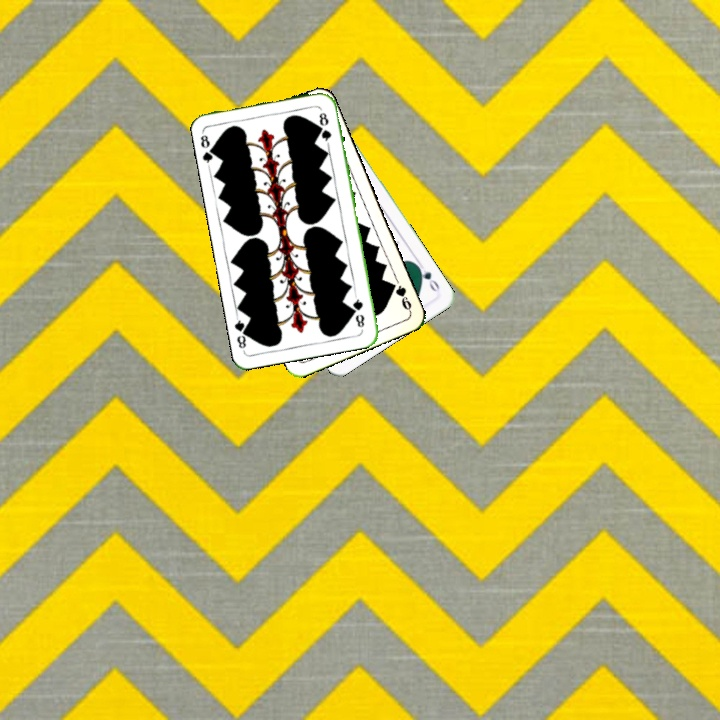G8: (196, 128, 219, 168), (349, 291, 367, 330)
G9: (386, 278, 414, 314)
GO: (413, 261, 442, 295)
